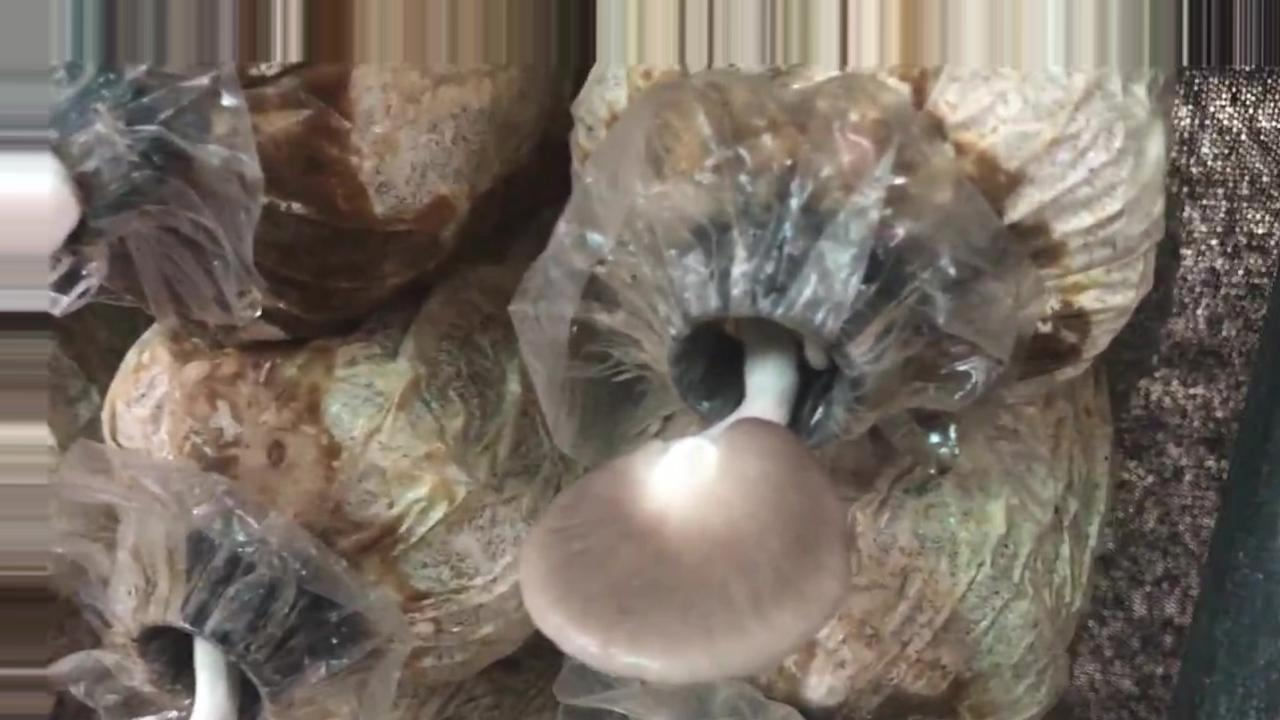nam: (516, 242, 850, 688)
